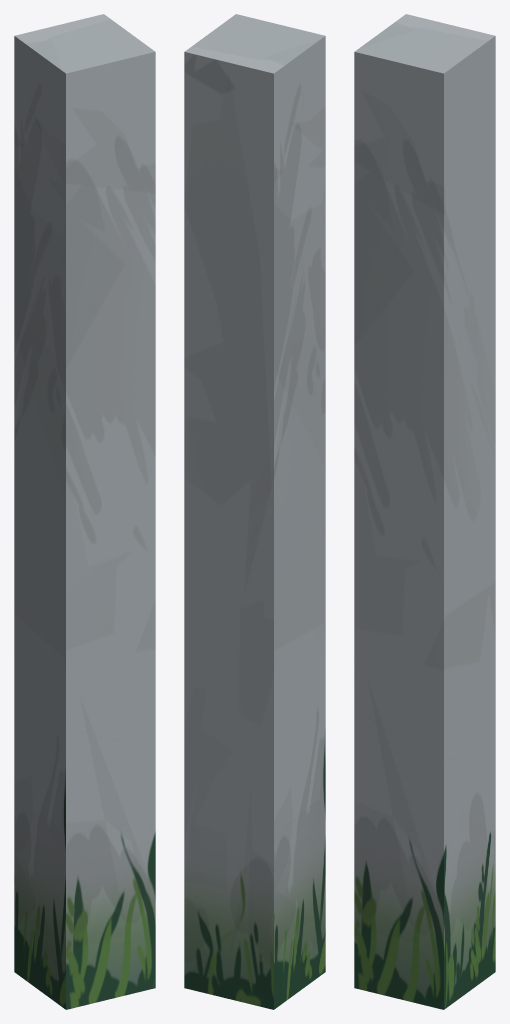
Rendered from Pillar_1.glb.
3 views of the same model, side by side, from view 1: azimuth 30°, elevation 25°; view 2: azimuth 150°, elevation 25°; view 3: azimuth 330°, elevation 25° (orthographic).
Parts seen in each view (by area): view 1: Pillar_1; view 2: Pillar_1; view 3: Pillar_1.
Part boxes in pixels (x1,y1,x2,y2): Pillar_1: [14, 14, 155, 1009]; Pillar_1: [184, 14, 325, 1009]; Pillar_1: [354, 14, 495, 1009].
Size of the model in its own units: 0.2 by 2 by 0.2.
Materials: 1 (1 with a texture image).
